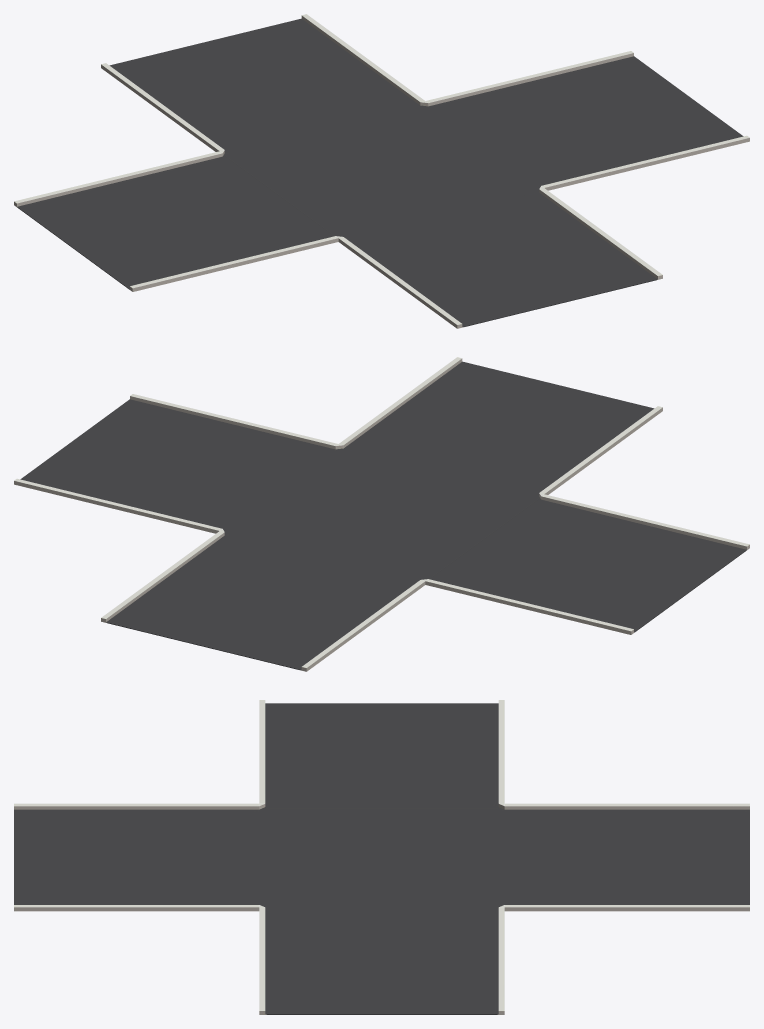
Rendered from road03.FBX.
3 views of the same model, one above another, from view 1: azimuth 30°, elevation 25°; view 2: azimuth 150°, elevation 25°; view 3: azimuth 270°, elevation 25° (orthographic). The views are drawn at different scales.
Visible parts, largest first — view 1: Box043, Box047, Box042, Box050, Box023; view 2: Box043, Box047, Box050, Box042, Box023; view 3: Box042, Box050, Box047, Box023, Box043.
Boxes of the visible parts, bbox=[...] form: Box043: bbox=[14, 151, 338, 291]; Box047: bbox=[426, 51, 749, 190]; Box042: bbox=[338, 188, 662, 328]; Box050: bbox=[101, 14, 424, 152]; Box023: bbox=[220, 101, 543, 239]; Box043: bbox=[425, 494, 749, 634]; Box047: bbox=[14, 394, 337, 533]; Box050: bbox=[101, 531, 425, 671]; Box042: bbox=[339, 357, 662, 495]; Box023: bbox=[220, 444, 543, 582]; Box042: bbox=[14, 803, 259, 911]; Box050: bbox=[504, 803, 749, 911]; Box047: bbox=[259, 907, 504, 1014]; Box023: bbox=[259, 803, 504, 910]; Box043: bbox=[259, 700, 504, 806].
Size of the model in its own units: 236 by 1.38 by 236.
2 materials, 2 textured.
